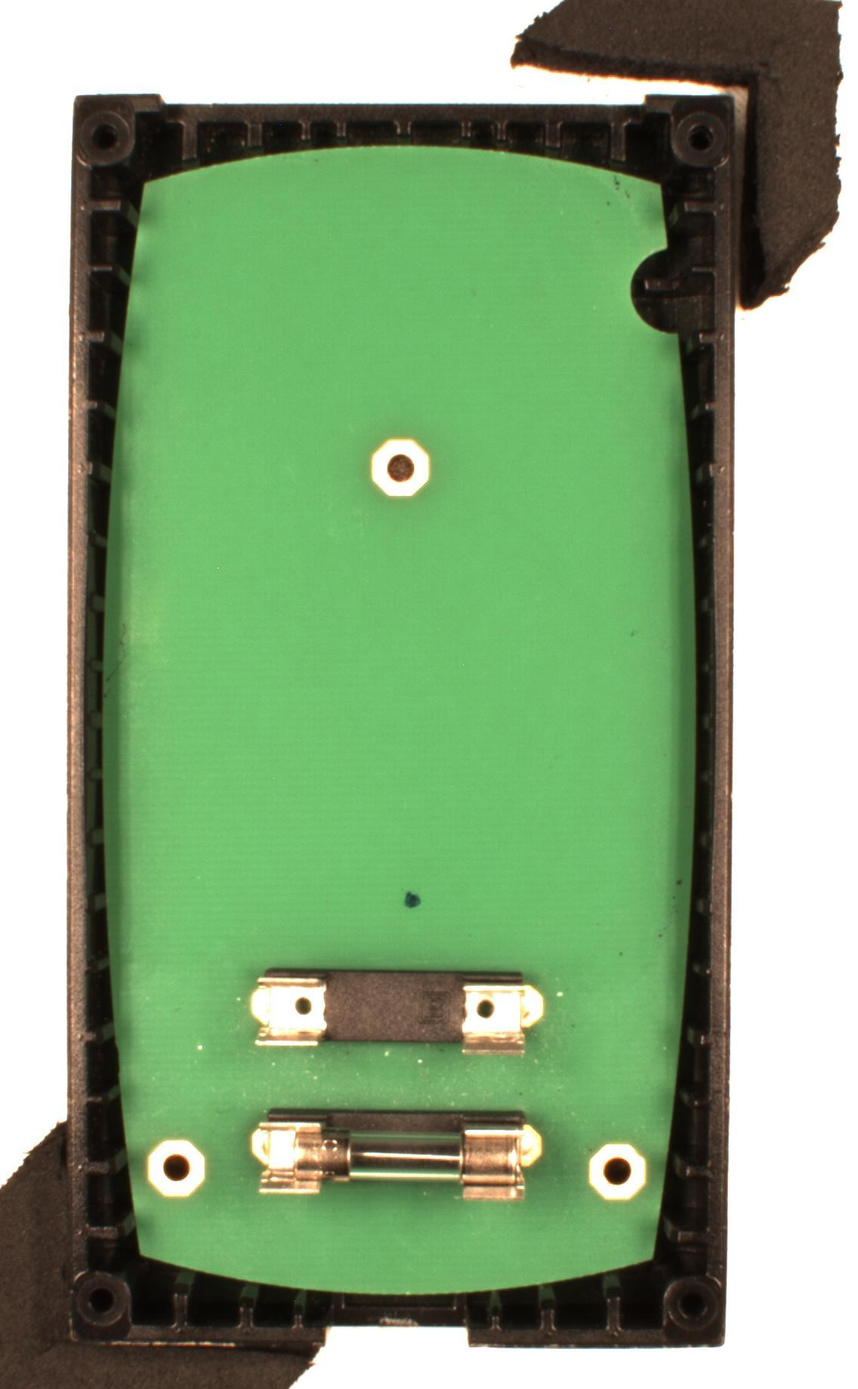Nepostojanje osiguraca: (249, 965, 547, 1059)
Tockasto Ostecenje: (403, 888, 424, 910)
